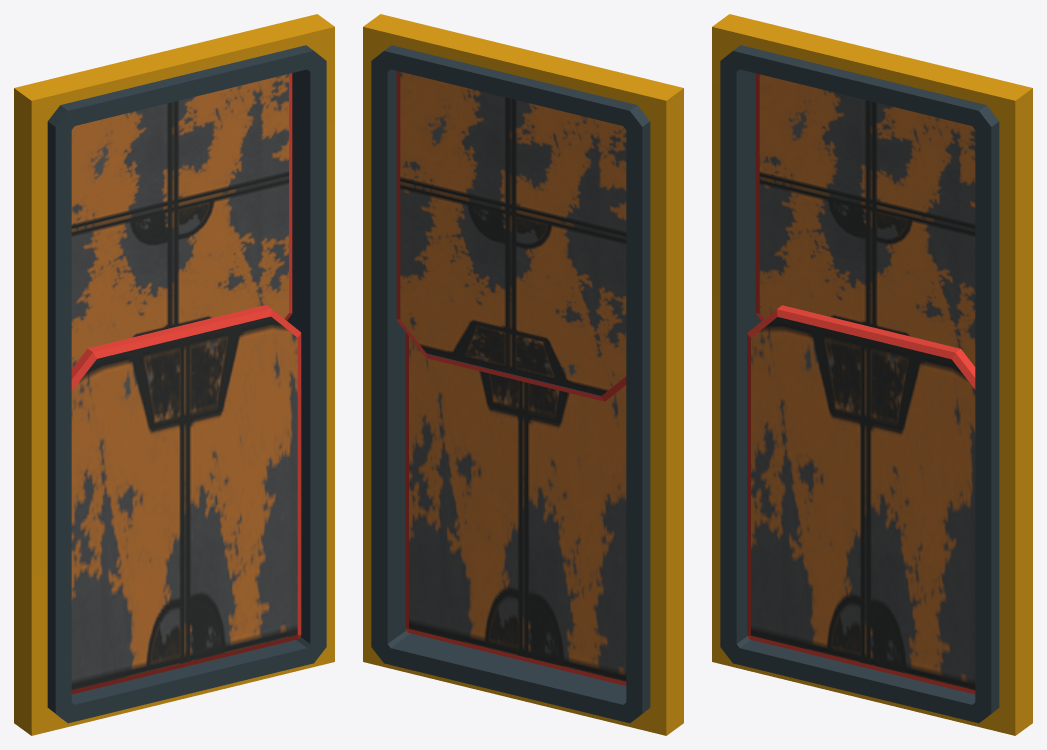
The model's file is Door 2.fbx.
3 views of the same model, side by side, from view 1: azimuth 30°, elevation 25°; view 2: azimuth 150°, elevation 25°; view 3: azimuth 330°, elevation 25° (orthographic).
Visible parts, largest first — view 1: Cube.146, Cube.160, Cube.161; view 2: Cube.146, Cube.161, Cube.160; view 3: Cube.146, Cube.160, Cube.161.
Part boxes in pixels (x1,y1,x2,y2): Cube.146: (14, 14, 334, 735); Cube.160: (71, 305, 301, 694); Cube.161: (71, 73, 292, 368); Cube.146: (363, 14, 683, 735); Cube.161: (396, 71, 626, 401); Cube.160: (405, 332, 626, 685); Cube.146: (712, 14, 1032, 735); Cube.160: (747, 305, 975, 694); Cube.161: (755, 73, 975, 366).
Bounding box in the file's own units: 2 × 4 × 0.3782.
